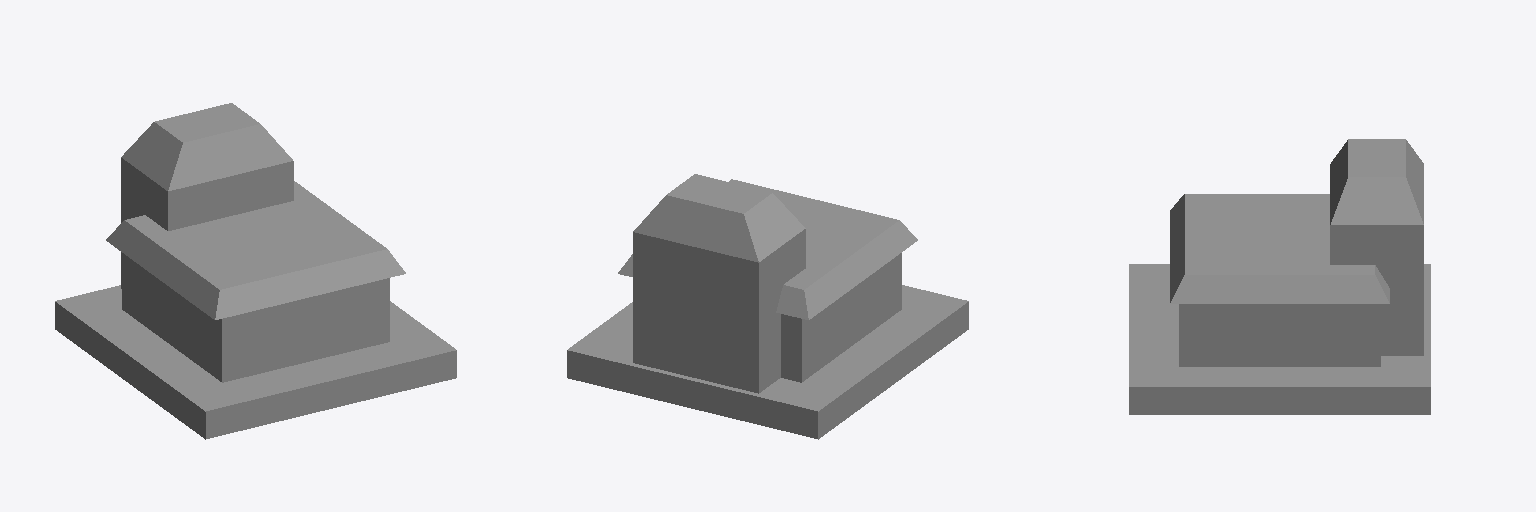
The model's file is house_1.obj.
3 views of the same model, side by side, from view 1: azimuth 30°, elevation 25°; view 2: azimuth 150°, elevation 25°; view 3: azimuth 270°, elevation 25° (orthographic).
Visible parts, largest first — view 1: House1_Cube.003; view 2: House1_Cube.003; view 3: House1_Cube.003.
Part boxes in pixels (bbox=[...]): House1_Cube.003: bbox=[55, 103, 456, 439]; House1_Cube.003: bbox=[567, 174, 968, 439]; House1_Cube.003: bbox=[1129, 139, 1430, 414].
Bounding box in the file's own units: 8.67 × 6.42 × 8.99.